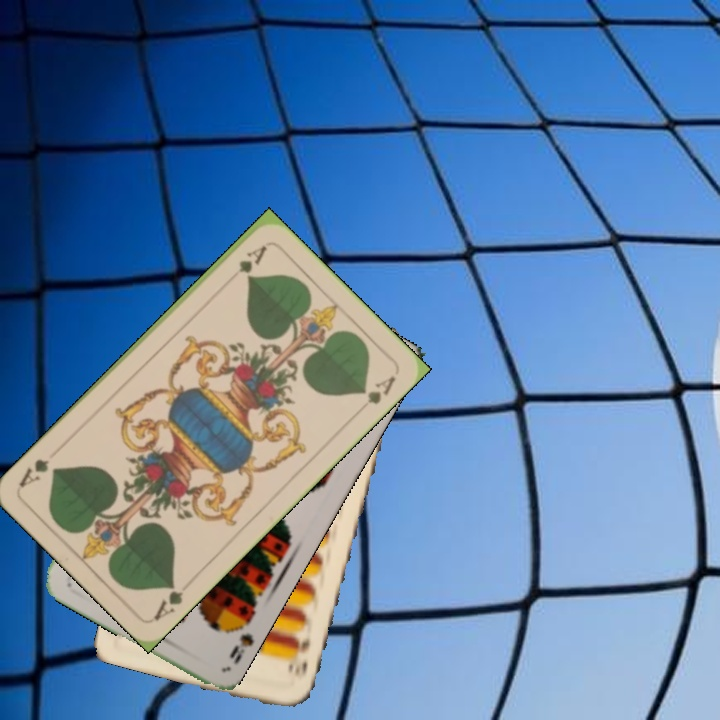E10: (286, 633, 313, 683)
GA: (149, 577, 186, 624), (234, 241, 270, 276)
S9: (225, 613, 256, 667)
